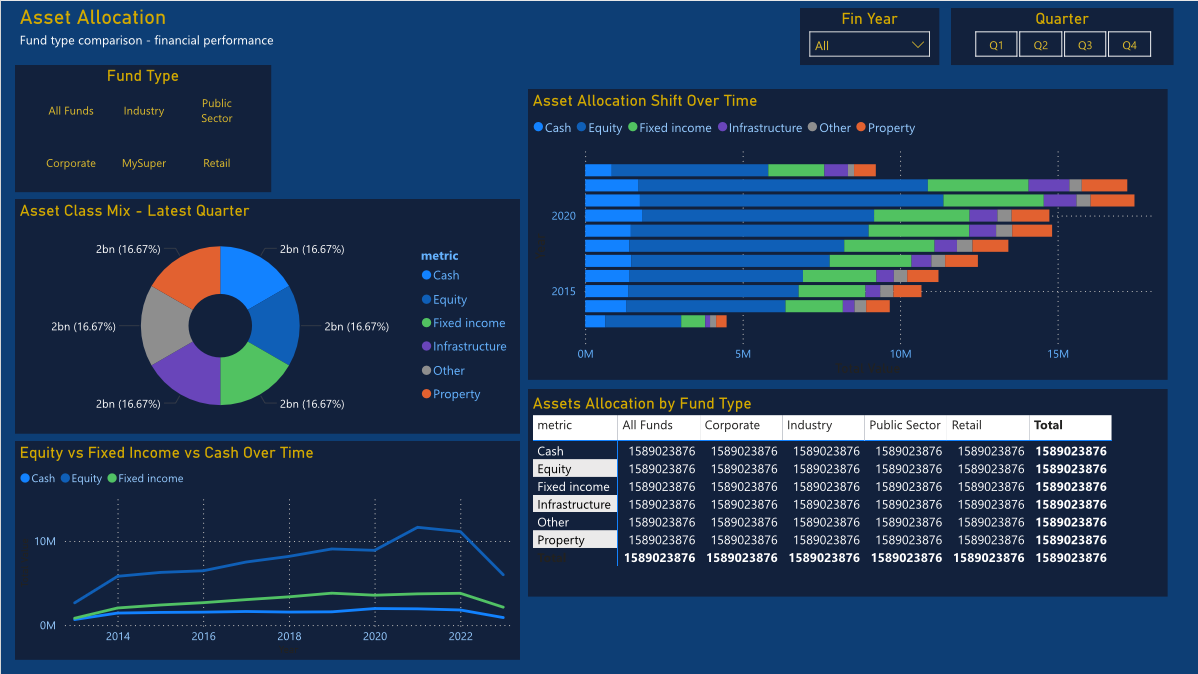

This screenshot's page, from the dashboard's own definition file:
{"tool":"powerbi","page":{"name":"Asset Allocation","canvas":[1280,720],"ordinal":1},"visuals":[{"type":"textbox","title":"Asset Allocation","box":[14.4,7.8,300,72.2],"z":0},{"type":"slicer","title":"Fin Year","fields":{"Values":["master_all.fin_year"]},"box":[854.4,7.8,148.9,61.1],"z":1000},{"type":"slicer","title":"Quarter","fields":{"Values":["master_all.quarter_label"]},"box":[1015.6,7.8,237.8,61.1],"z":2000},{"type":"slicer","title":"Fund Type","fields":{"Values":["master_all.fund_type"]},"box":[14.4,68.9,274.4,135.6],"z":3000},{"type":"donutChart","title":"Asset Class Mix - Latest Quarter","fields":{"Y":["master_all.Latest Quarter Value"],"Category":["master_all.metric"]},"box":[14.4,212.2,422.2,251.1],"z":4000},{"type":"barChart","title":"Asset Allocation Shift Over Time","fields":{"Y":["master_all.Total Value"],"Category":["master_all.date.Variation.Date Hierarchy.Year","master_all.date.Variation.Date Hierarchy.Quarter","master_all.date.Variation.Date Hierarchy.Month","master_all.date.Variation.Date Hierarchy.Day"],"Series":["master_all.metric"]},"box":[651.1,393.3,590,263.3],"z":5000},{"type":"lineChart","title":"Equity vs Fixed Income vs Cash Over Time","fields":{"Category":["master_all.date.Variation.Date Hierarchy.Year","master_all.date.Variation.Date Hierarchy.Quarter","master_all.date.Variation.Date Hierarchy.Month","master_all.date.Variation.Date Hierarchy.Day"],"Y":["master_all.Total Value"],"Series":["master_all.metric"]},"box":[68.9,475.6,530,234.4],"z":6000},{"type":"pivotTable","title":"Assets Allocation by Fund Type","fields":{"Rows":["master_all.metric"],"Columns":["master_all.fund_type"],"Values":["master_all.Latest Quarter Value"]},"box":[511.1,157.8,642.2,202.2],"z":7000}]}

Visuals, with their boxes in screenshot pixels (x1, y1, x2, y2), scaled from the page's 1280x720 canvas onto the 1198x674 screenshot:
"Asset Allocation" textbox: BBox(13, 7, 294, 75)
"Fin Year" slicer: BBox(800, 7, 939, 64)
"Quarter" slicer: BBox(951, 7, 1173, 64)
"Fund Type" slicer: BBox(13, 64, 270, 191)
"Asset Class Mix - Latest Quarter" donutChart: BBox(13, 199, 409, 434)
"Asset Allocation Shift Over Time" barChart: BBox(609, 368, 1162, 615)
"Equity vs Fixed Income vs Cash Over Time" lineChart: BBox(64, 445, 561, 665)
"Assets Allocation by Fund Type" pivotTable: BBox(478, 148, 1079, 337)
